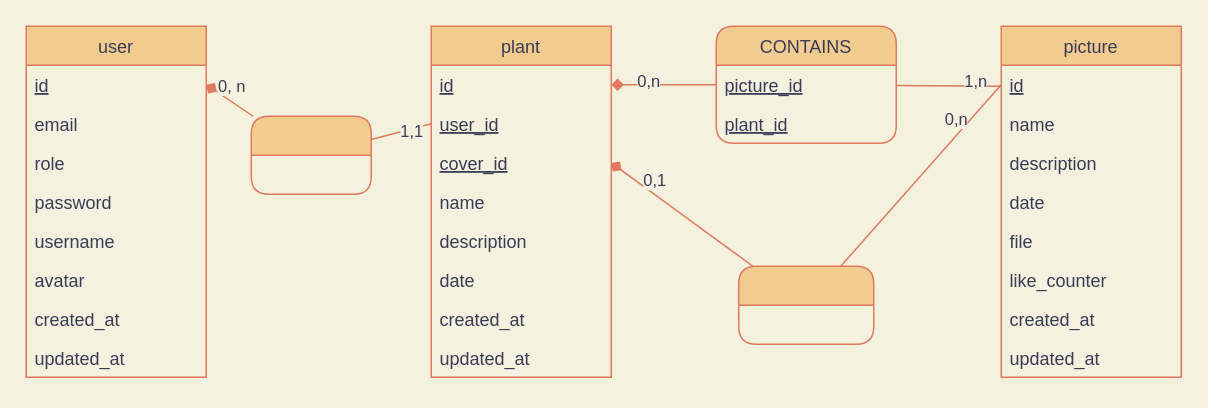
Some shapes in this 1208 by 408 pixel diagram are drawn without their labels. The shapes that lost their labels are listed below. From the top down, each one's centre as x and y in pixels, then its label:
At point 310,154: "CREATES".
At point 805,304: "HAS COVER".
